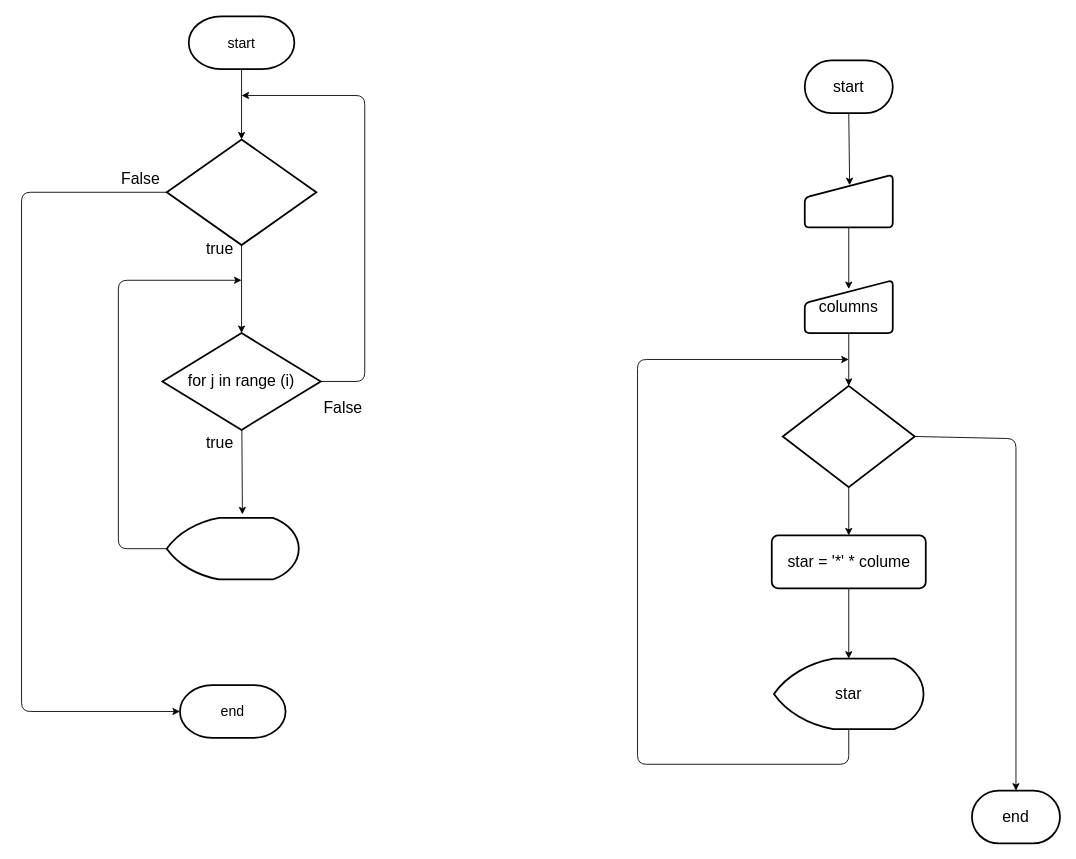
Image size: 1076x859. Some labels were removed from this diagram. The shapes that lost their labels are listed below. From the top down, each one's centre as x and y in pixels, then its label:
the point at 241,192: for i in range (4)
the point at 848,200: rows
the point at 848,436: i in range(rows)
the point at 232,548: i,j
